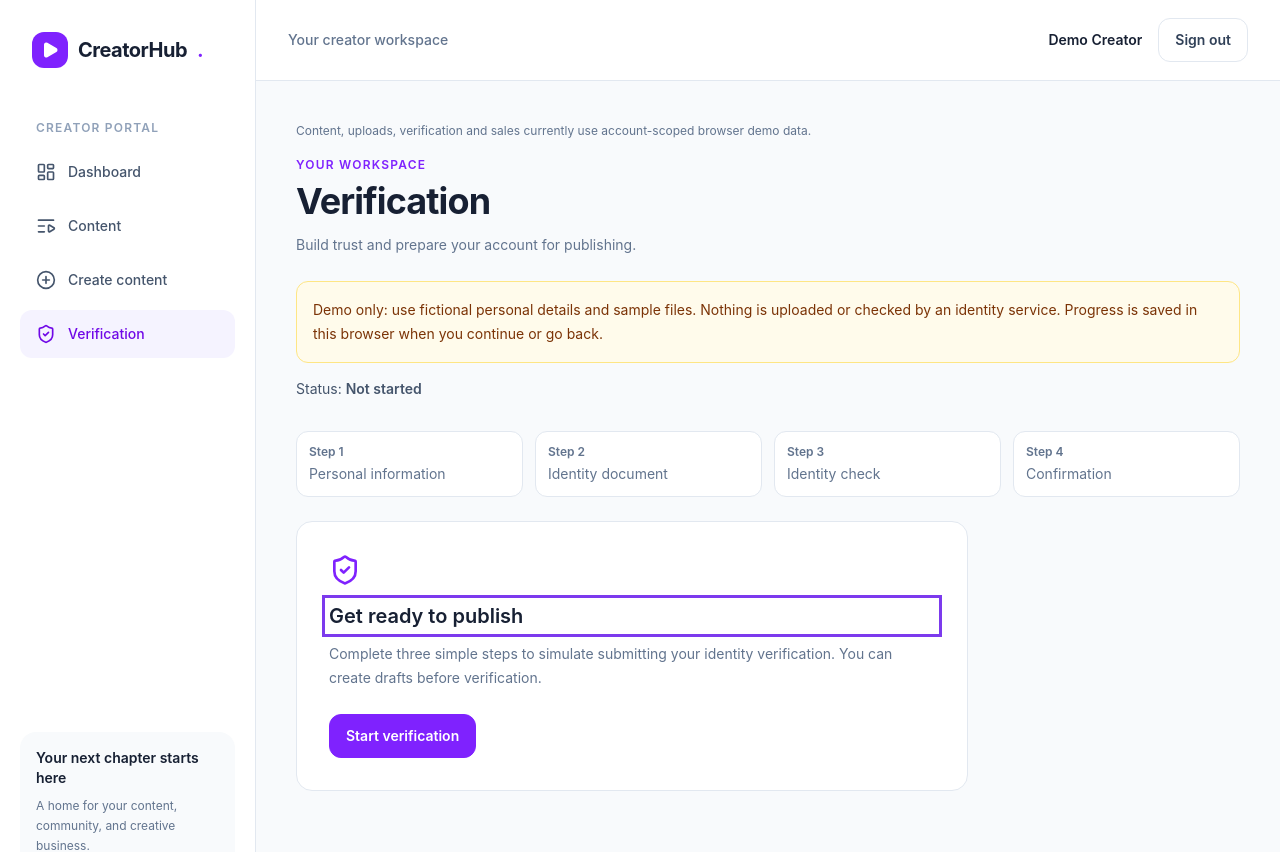
Test: verification workflow › keeps the current step and entered details when progress cannot be saved
Click the button "Start verification" at point(403, 736), box left=329, top=714, right=476, bottom=758
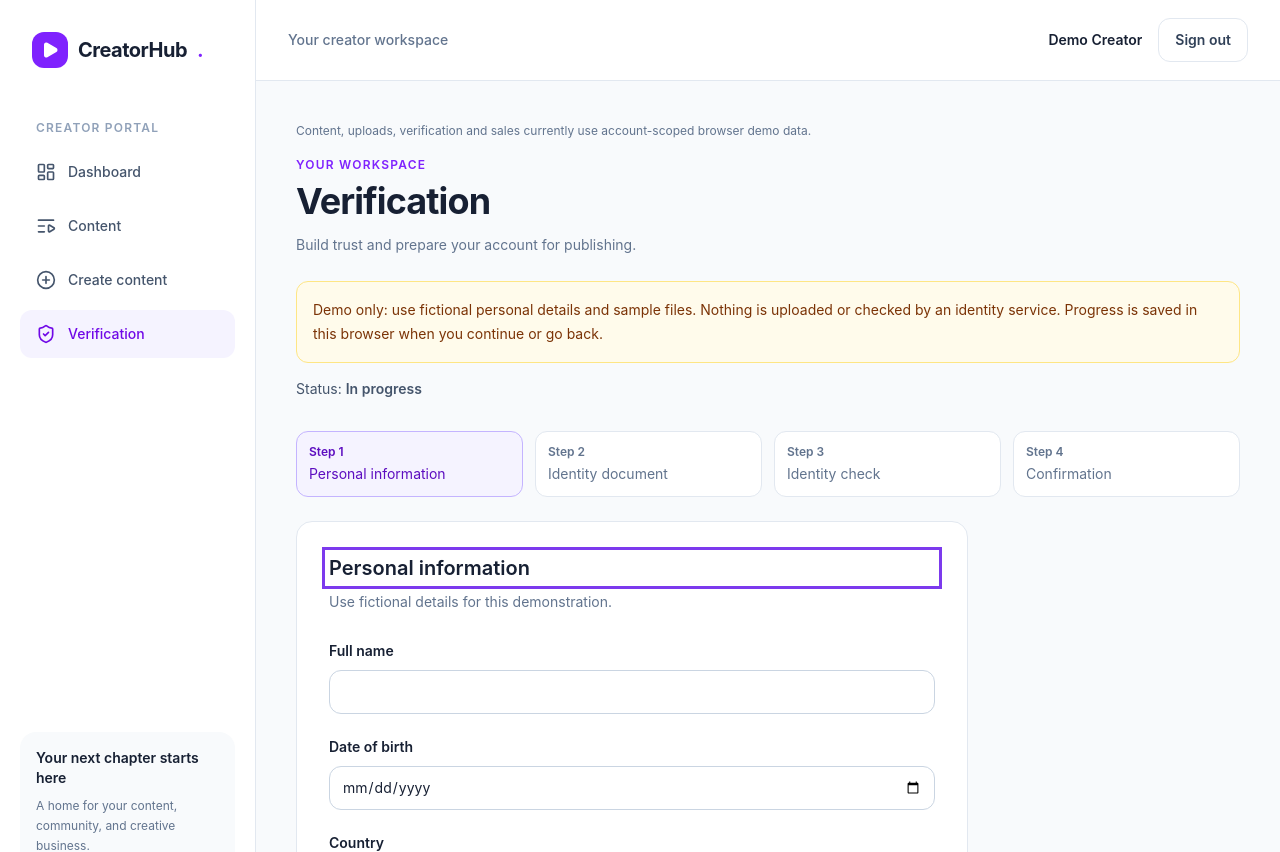
Type "Sample Creator" into the field labelled "Full name" at point(632, 692), box left=329, top=670, right=935, bottom=714
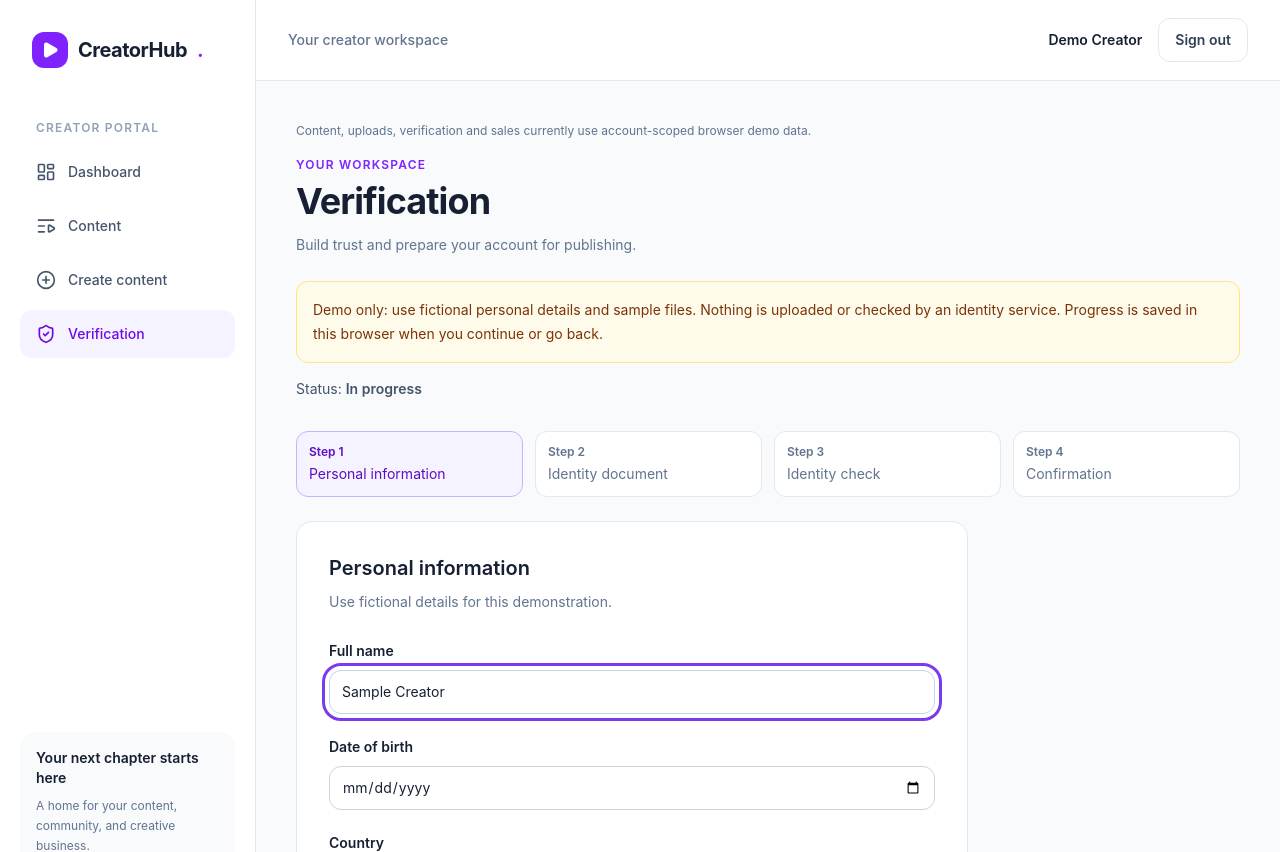
Type "1995-04-18" into the date field labelled "Date of birth" at point(632, 788), box left=329, top=766, right=935, bottom=810
(page scrolled)
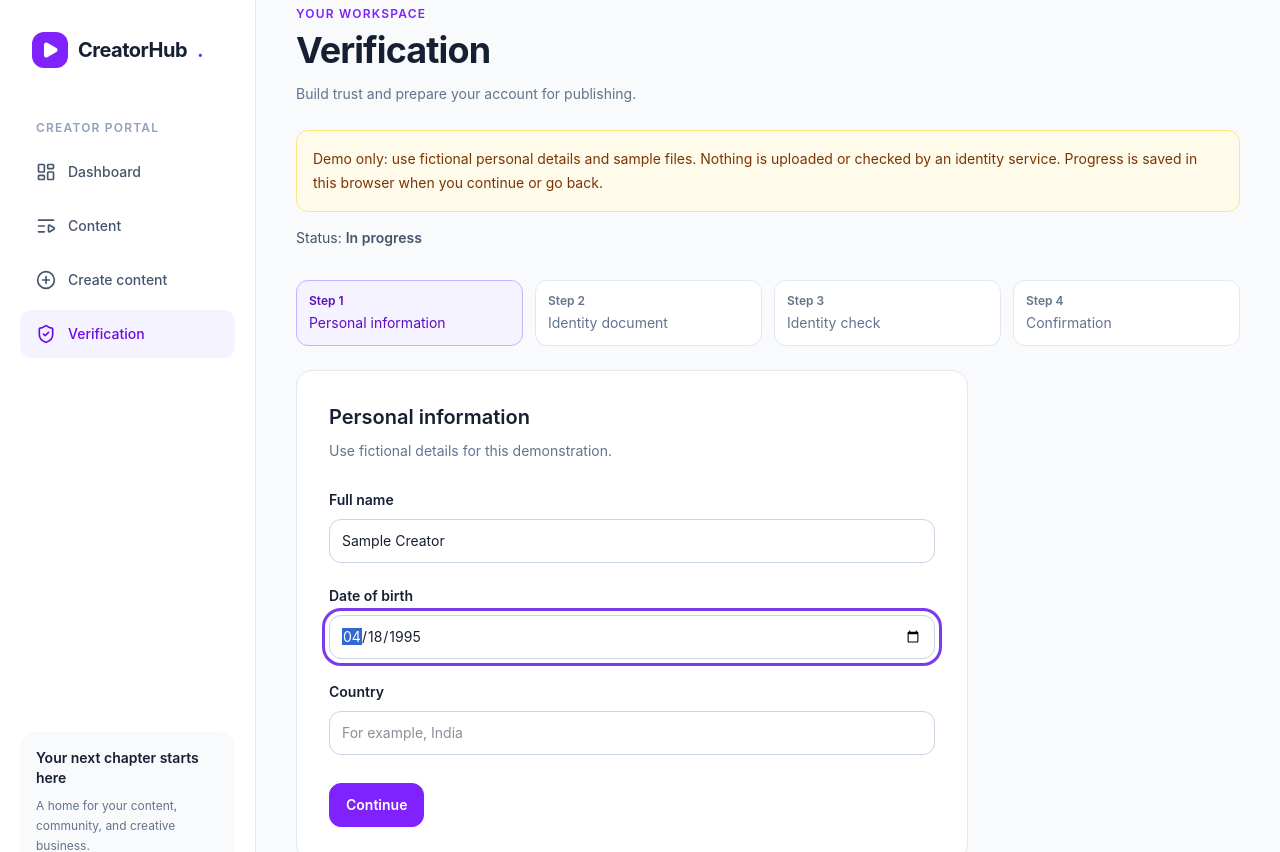
Type "India" into the field labelled "Country" at point(632, 733), box left=329, top=711, right=935, bottom=755
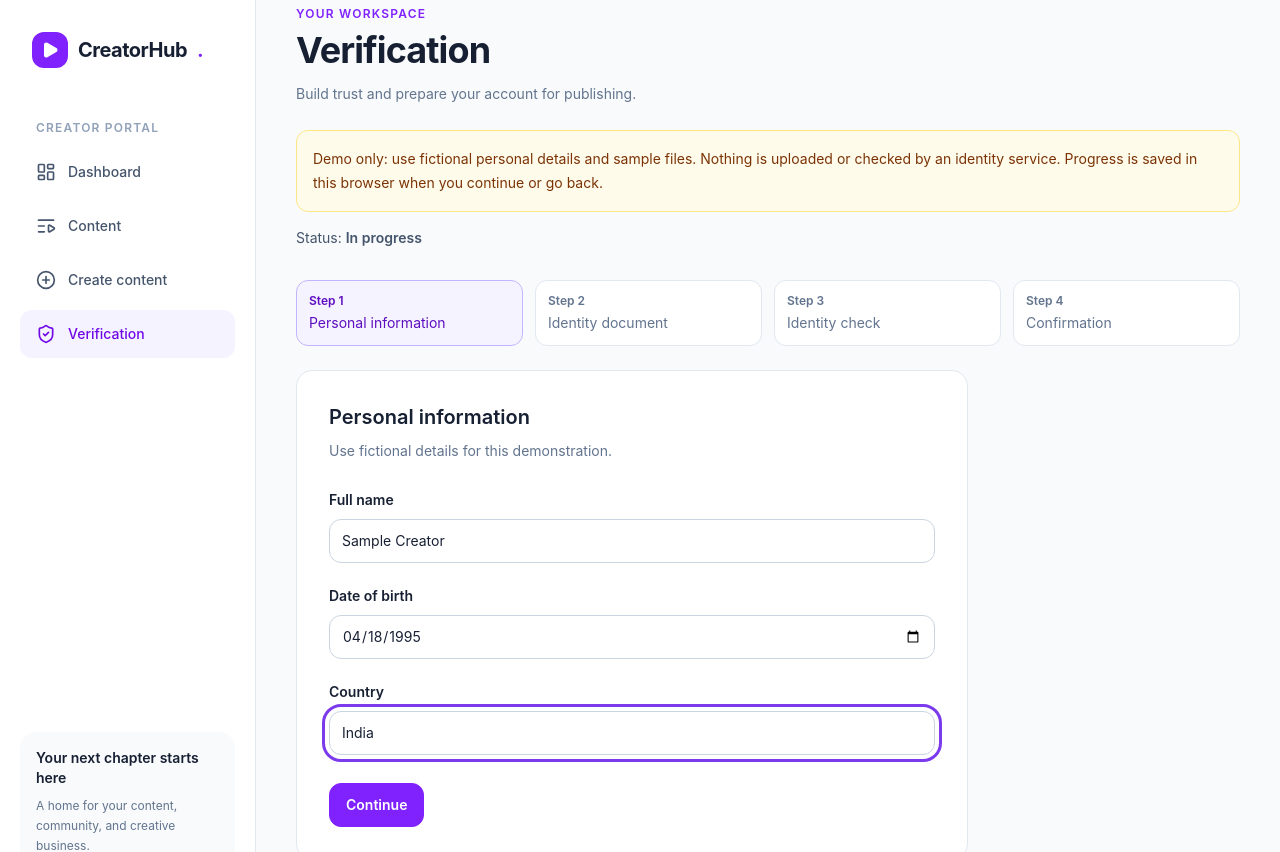
Click the button "Continue" at point(377, 805), box left=329, top=783, right=424, bottom=827
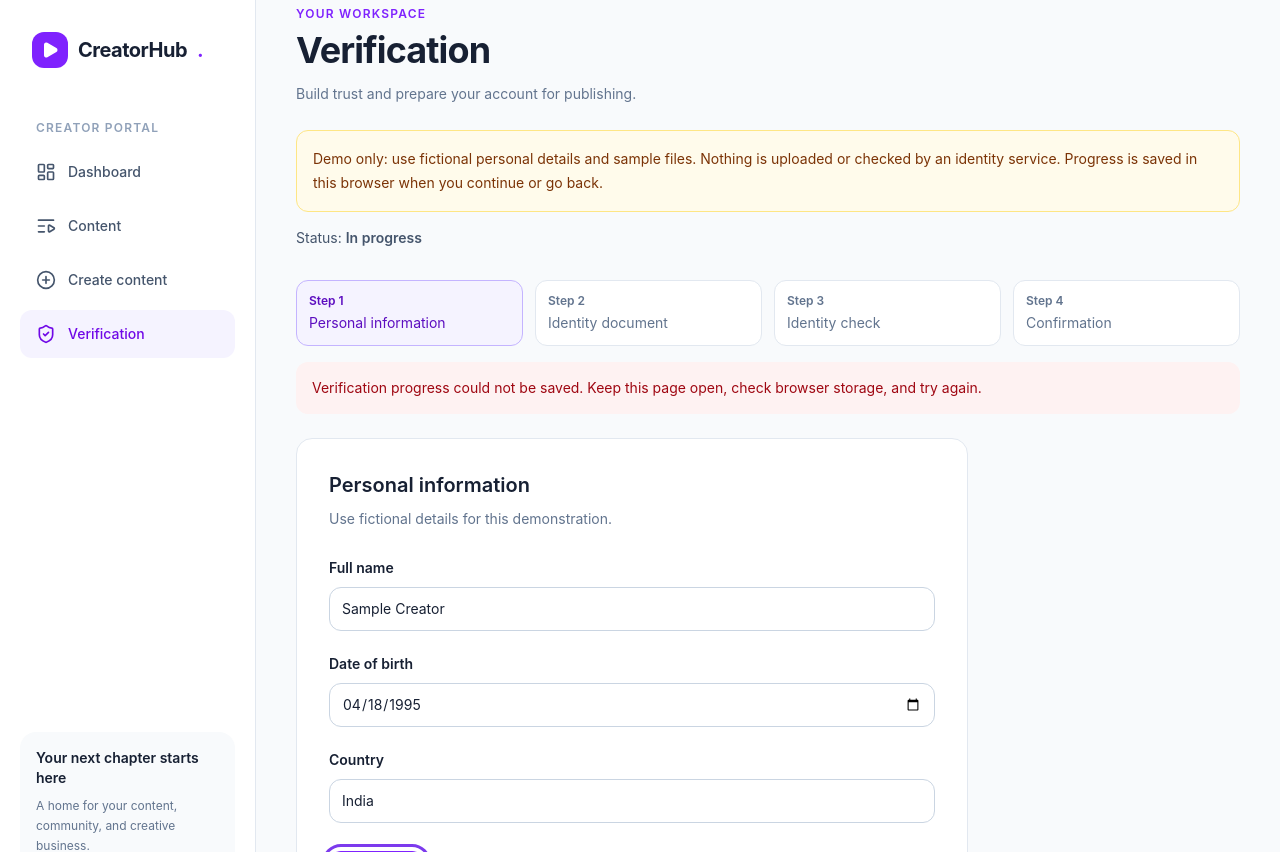
Check: the message shows "could not be saved", box left=312, top=379, right=982, bottom=396
